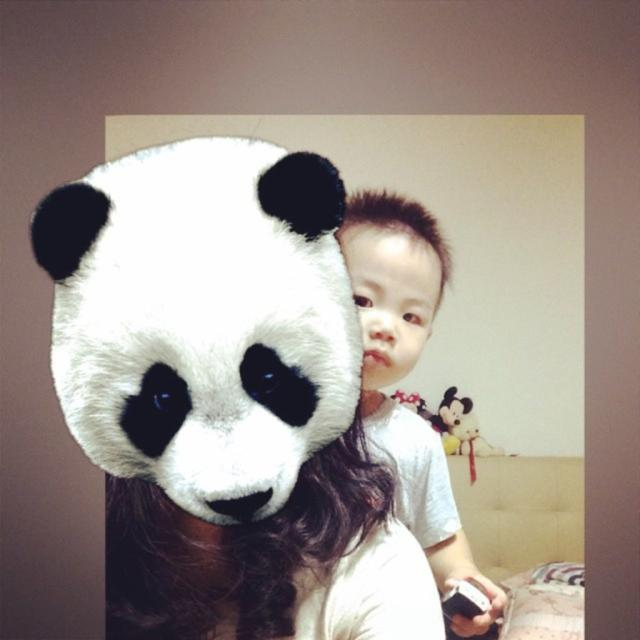panda: (29, 136, 364, 523), (29, 135, 361, 518)
